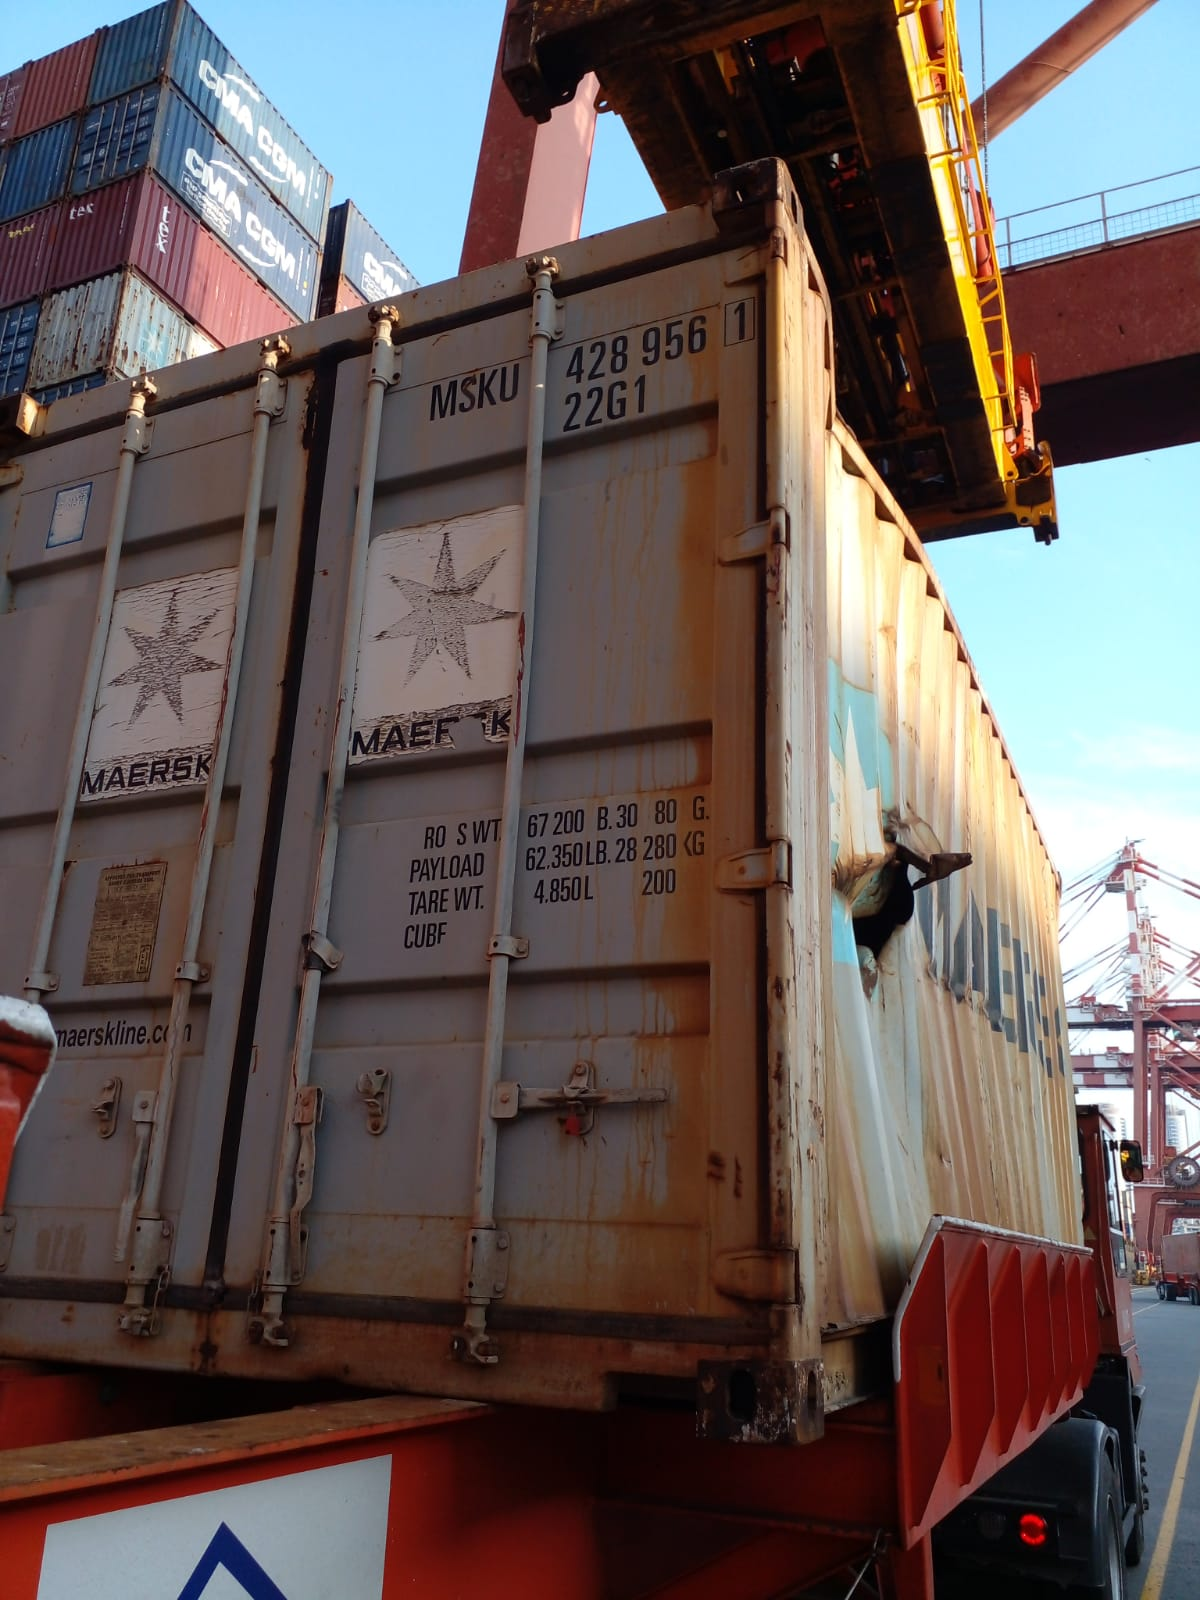cut: (793, 805, 1006, 1017)
